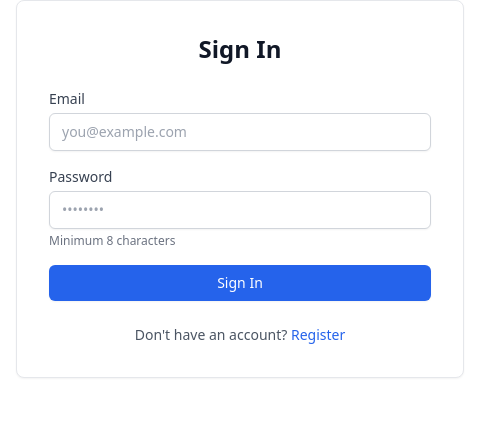
AuthForm › login form validation › shows invalid email error for malformed email
Type "not-an-email" into the field labelled "Email" at point(240, 132), box top-left (49, 113), bottom-right (431, 151)
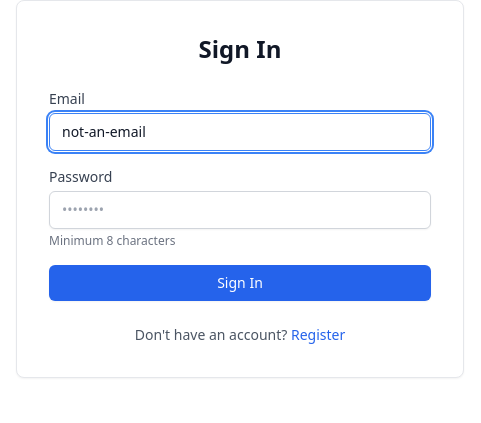
Click the button "Sign In" at point(240, 283), box top-left (49, 265), bottom-right (431, 301)
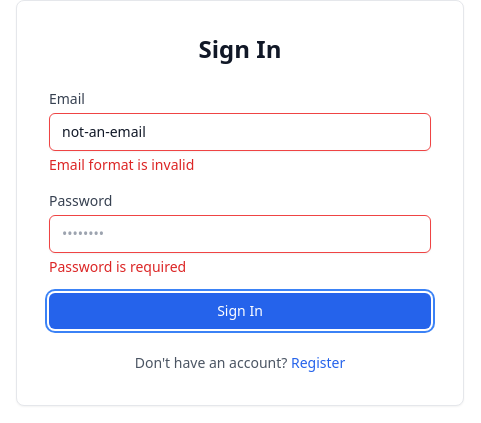
expect the text "Email format is invalid" is shown: met, box top-left (49, 155), bottom-right (194, 174)
